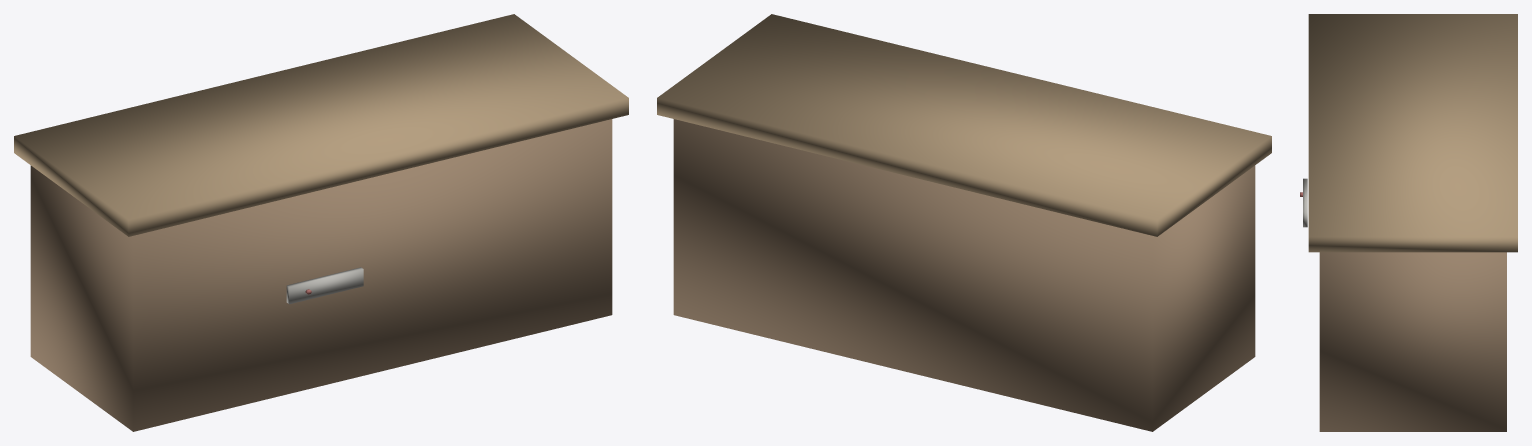
Rendered from pawn_counter__squat.glb.
The picture shows the model from 3 angles, left to right: view 1: azimuth 30°, elevation 25°; view 2: azimuth 150°, elevation 25°; view 3: azimuth 270°, elevation 25°; orthographic projection. The views are drawn at different scales.
Visible parts, largest first — view 1: world; view 2: world; view 3: world.
Part boxes in pixels (<box>): world: <box>14,14,628,431</box>; world: <box>657,14,1271,431</box>; world: <box>1300,14,1517,431</box>.
Bounding box in the file's own units: 2.07 × 0.8652 × 0.8543.
